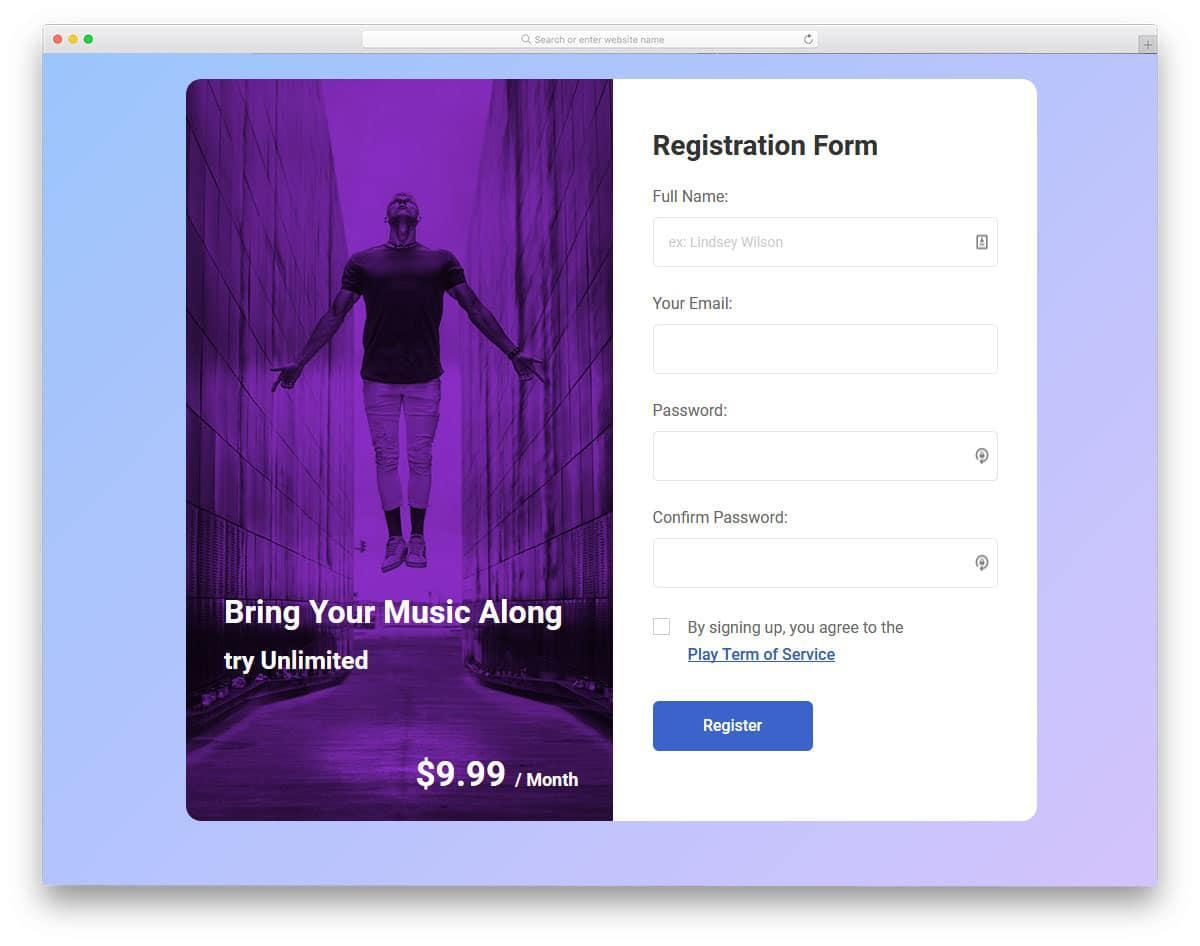button: (652, 699, 817, 756)
checkbox: (650, 616, 677, 640)
input: (650, 214, 1004, 271), (652, 321, 1004, 377), (651, 535, 1002, 591), (649, 430, 1001, 485)
label: (687, 616, 911, 640), (648, 510, 790, 532), (652, 397, 737, 426), (655, 291, 735, 318), (650, 190, 730, 208)
